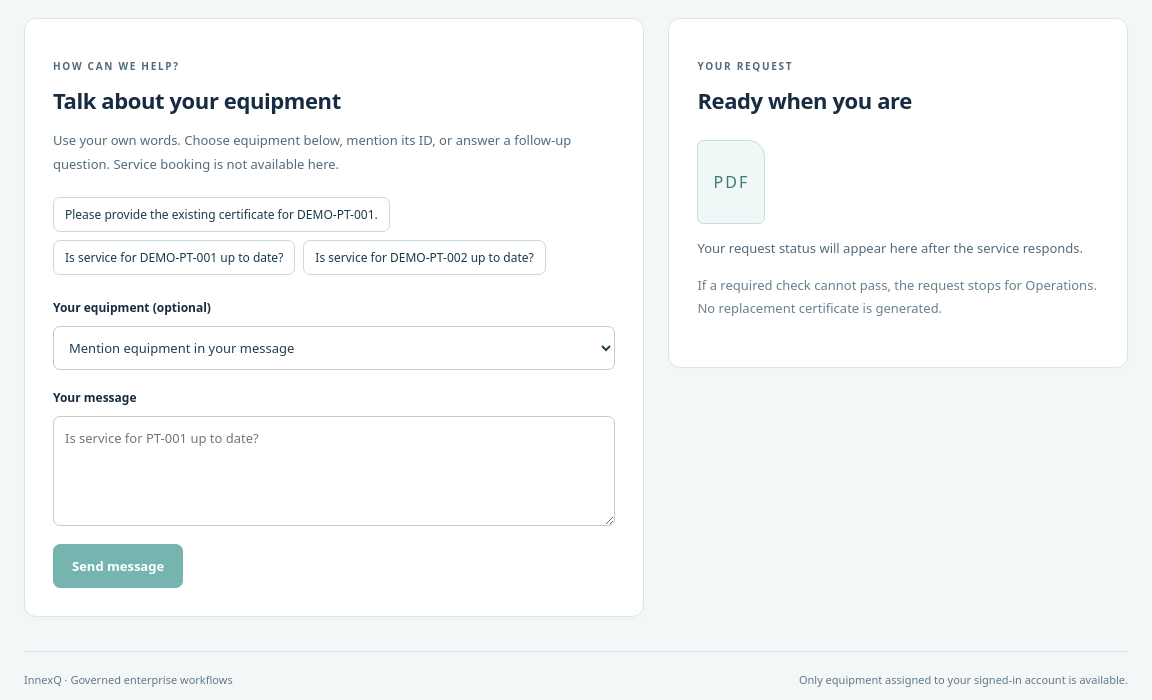
CustomerPortal › rejects a response for another request
(page scrolled)
In the text box labelled "Your message": (334, 471) [53,416,615,526], type "Please send my existing certificate."
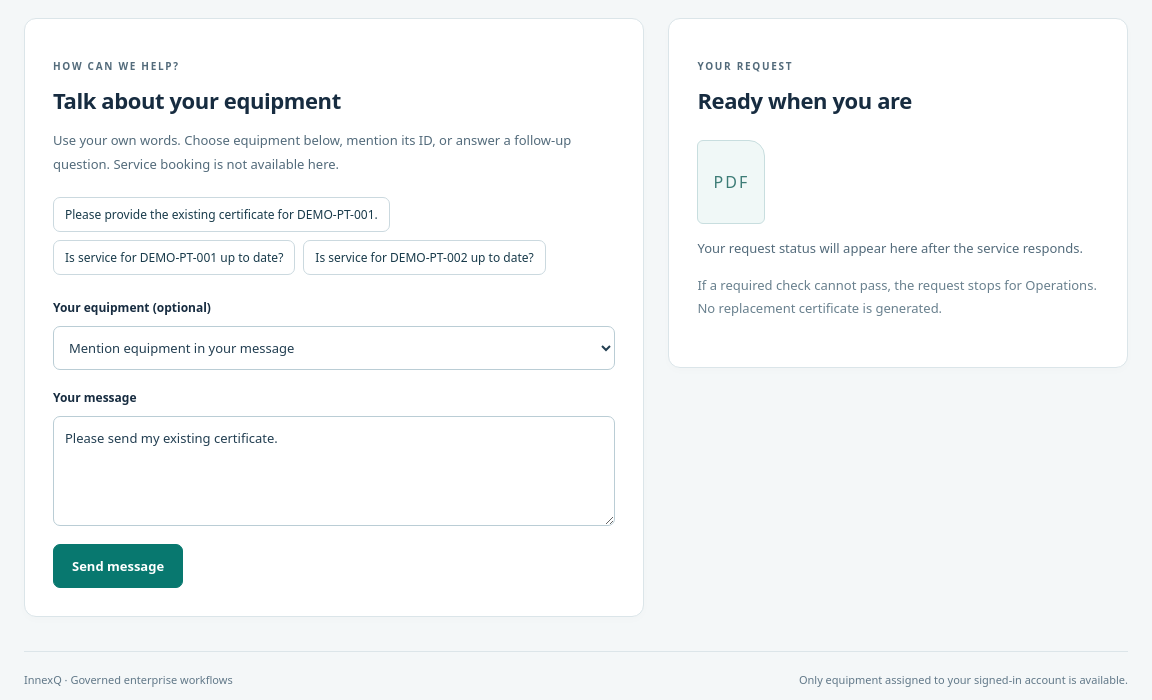
Click the button "Send message": click(118, 566) [53,544,183,588]
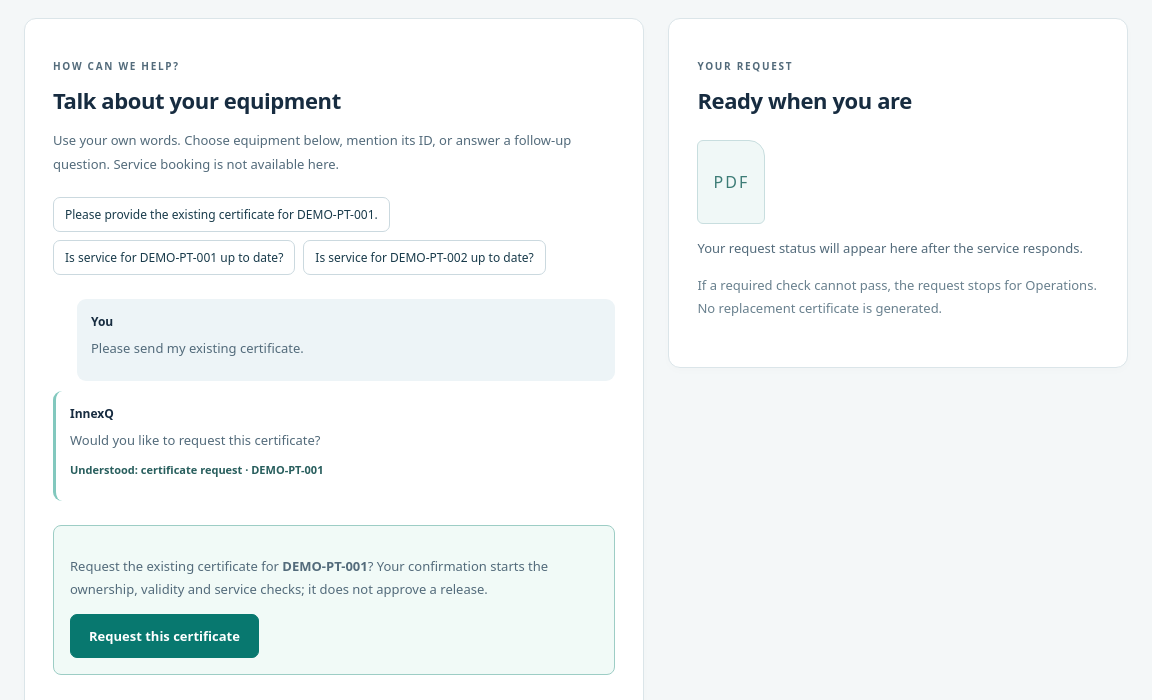
Click the button "Request this certificate": click(164, 636) [70,614,259,658]
(page scrolled)
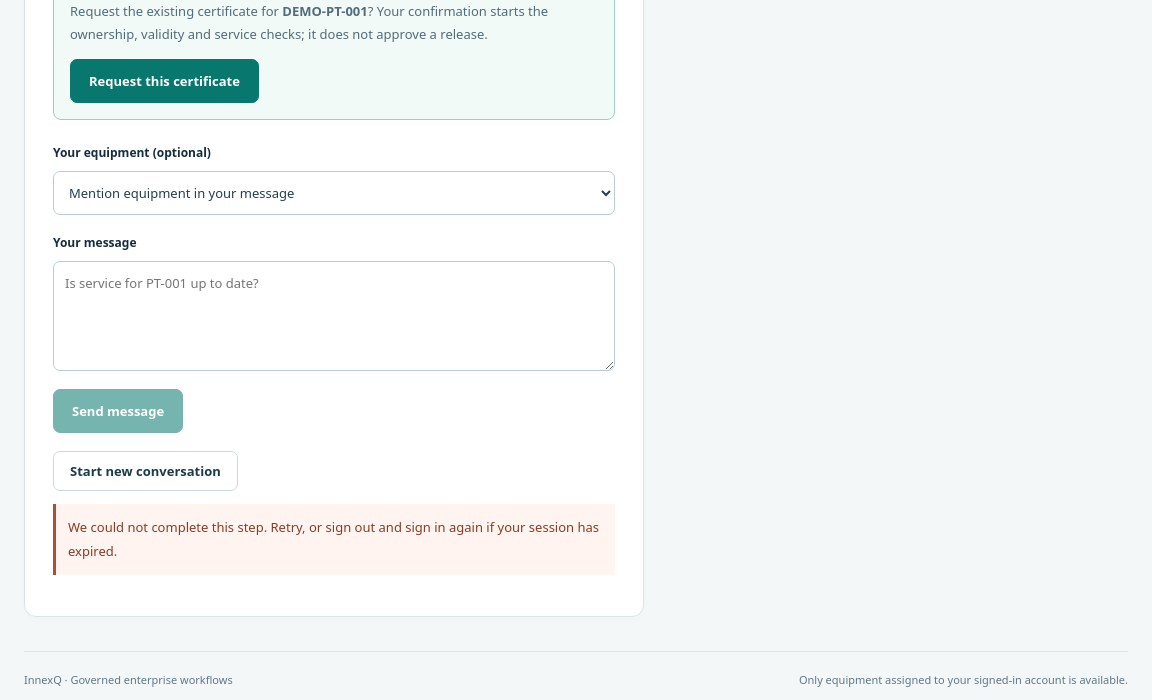
Expected: the message is shown, [53,504,615,575]
